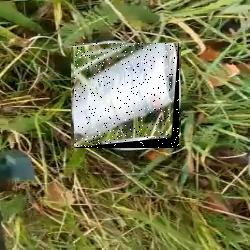metal: (74, 43, 179, 148)
